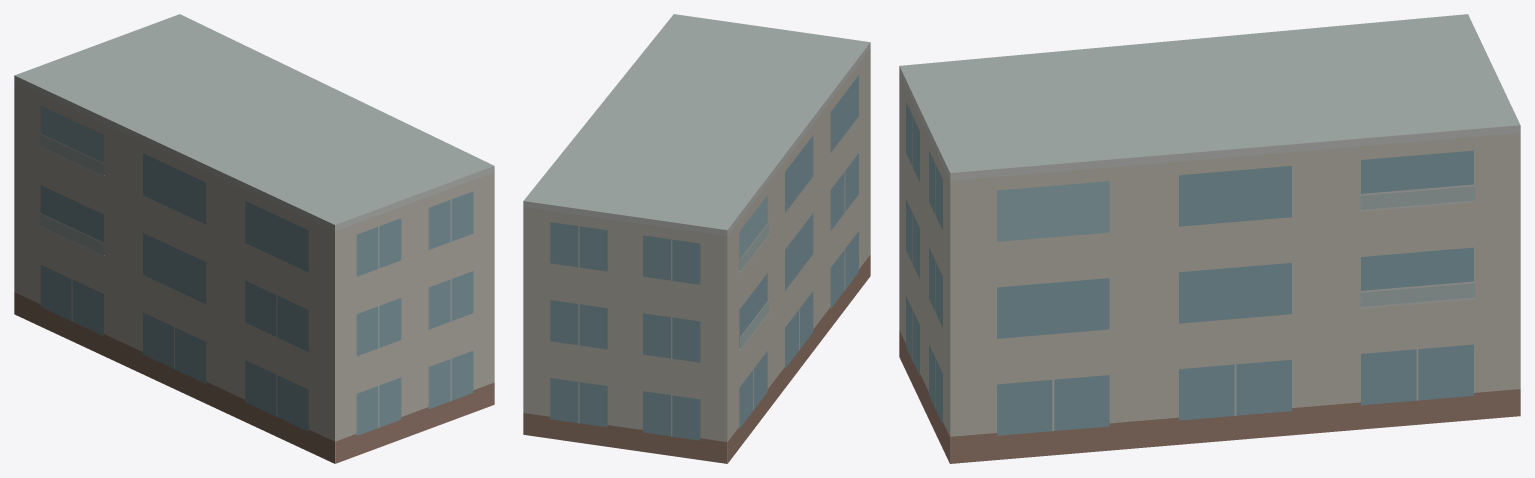
Rendered from survey-upis-32704999.glb.
3 renders of one model, left to right at view 1: azimuth 30°, elevation 25°; view 2: azimuth 150°, elevation 25°; view 3: azimuth 270°, elevation 25°, orthographic. The views are drawn at different scales.
Visible parts, largest first — view 1: survey-upis-32704999.tmp; view 2: survey-upis-32704999.tmp; view 3: survey-upis-32704999.tmp.
Part boxes in pixels (box(x1,y1,x2,y2)): survey-upis-32704999.tmp: box(14, 14, 494, 463); survey-upis-32704999.tmp: box(523, 14, 870, 463); survey-upis-32704999.tmp: box(899, 14, 1520, 463).
Size of the model in its own units: 10.73 by 9.15 by 17.72.
